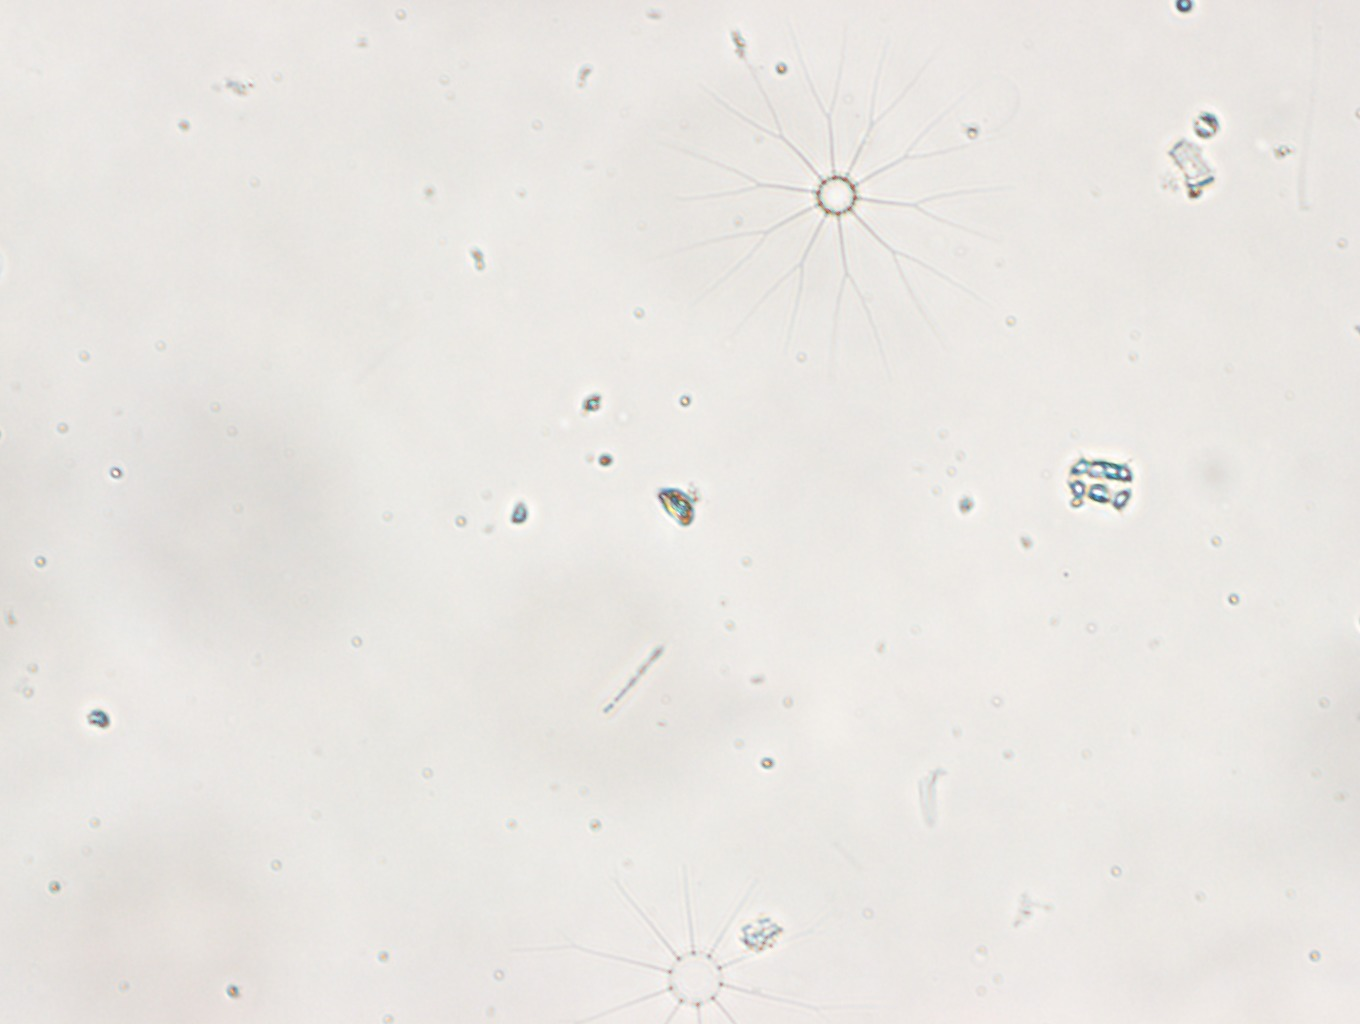bacteriastrum: (669, 28, 1017, 362)
